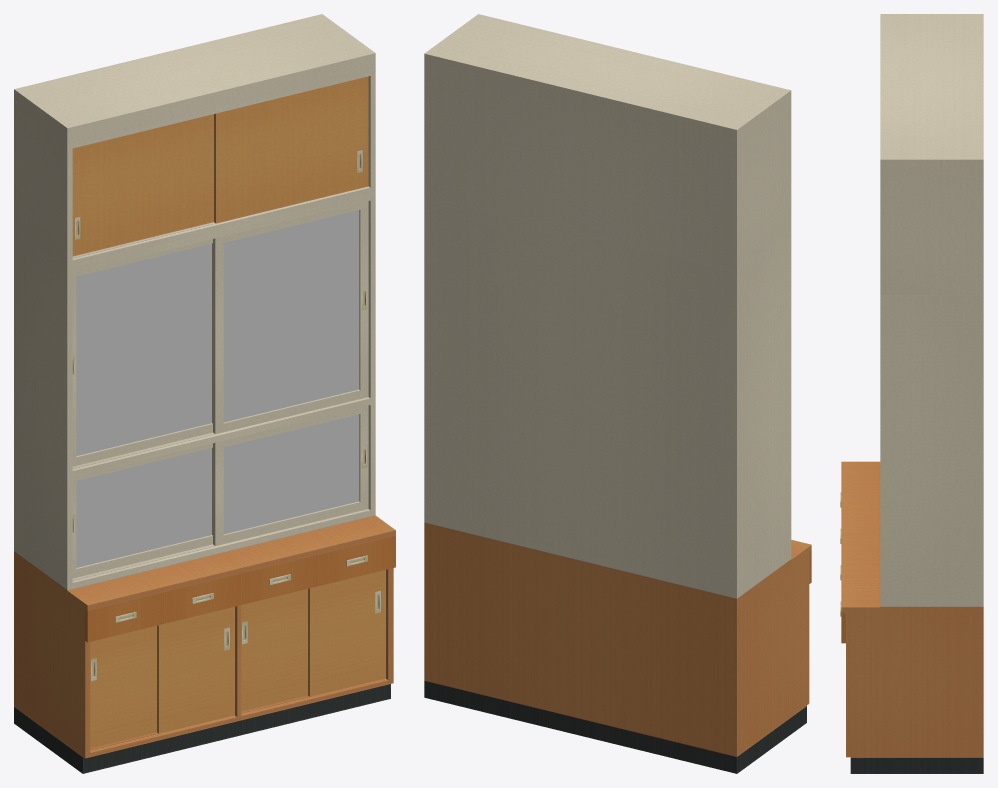
File: KR_Rack_01_01.fbx
3 renders of one model, left to right at view 1: azimuth 30°, elevation 25°; view 2: azimuth 150°, elevation 25°; view 3: azimuth 270°, elevation 25°, orthographic. The views are drawn at different scales.
Visible parts, largest first — view 1: glass01 (×4), rack_01_01, rack_01_02, door05_R1, door05_L1, door01_R1, door01_R2, door01_L1, door01_L2, door04_R1, door03_R1, door04_L1 (+5 smaller); view 2: rack_01_01, rack_01_02; view 3: rack_01_01, rack_01_02.
Part boxes in pixels (bbox=[...]): glass01 (×4): bbox=[76, 210, 359, 567]; rack_01_01: bbox=[14, 193, 395, 773]; rack_01_02: bbox=[14, 14, 375, 267]; door05_R1: bbox=[214, 76, 368, 223]; door05_L1: bbox=[72, 114, 213, 256]; door01_R1: bbox=[157, 606, 234, 733]; door01_R2: bbox=[308, 570, 385, 696]; door01_L1: bbox=[90, 626, 156, 748]; door01_L2: bbox=[241, 589, 307, 711]; door04_R1: bbox=[213, 201, 368, 433]; door03_R1: bbox=[213, 405, 368, 545]; door04_L1: bbox=[72, 239, 212, 466]; rack_01_01: bbox=[424, 195, 811, 773]; rack_01_02: bbox=[424, 14, 791, 271]; rack_01_01: bbox=[841, 295, 983, 773]; rack_01_02: bbox=[880, 14, 983, 294].
Bounding box in the file's own units: 150 × 295 × 62.52.
